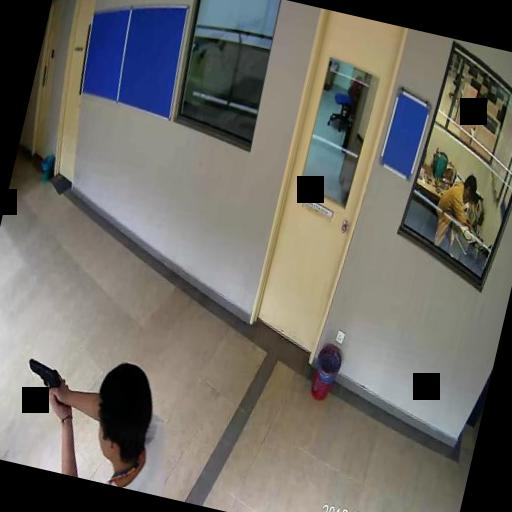Handgun: (19, 355, 71, 407)
